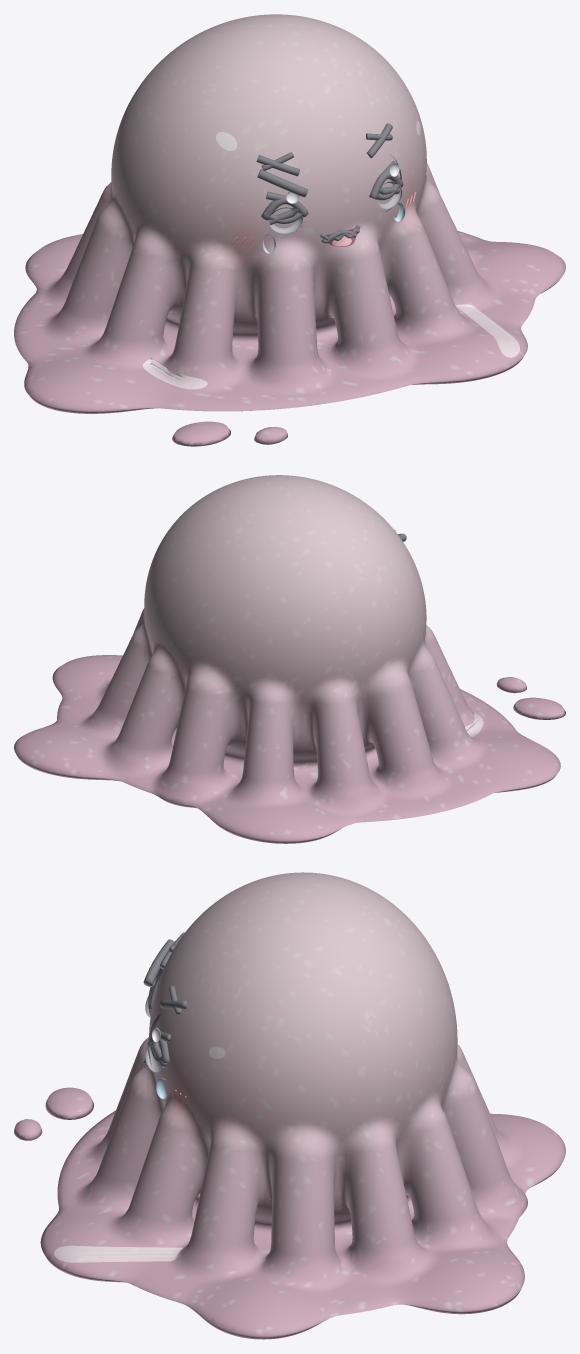
The model's file is v_drip_pink_slime.glb.
The picture shows the model from 3 angles, top to bottom: view 1: azimuth 30°, elevation 25°; view 2: azimuth 150°, elevation 25°; view 3: azimuth 270°, elevation 25°; orthographic projection. The views are drawn at different scales.
Visible parts, largest first — view 1: BodyMesh, face_eyes_normal, face_eyes_happy, face_brows_angry, face_eyes_strain; view 2: BodyMesh; view 3: BodyMesh, face_eyes_normal.
Part boxes in pixels (x1,y1,x2,y2): BodyMesh: (14,14,565,446); face_eyes_normal: (269,155,402,235); face_eyes_happy: (261,172,403,220); face_brows_angry: (256,123,392,176); face_eyes_strain: (266,161,400,224); BodyMesh: (14,475,565,843); BodyMesh: (14,872,565,1339); face_eyes_normal: (145,968,162,1076).
Bounding box in the file's own units: 3.23 × 1.66 × 2.65.
